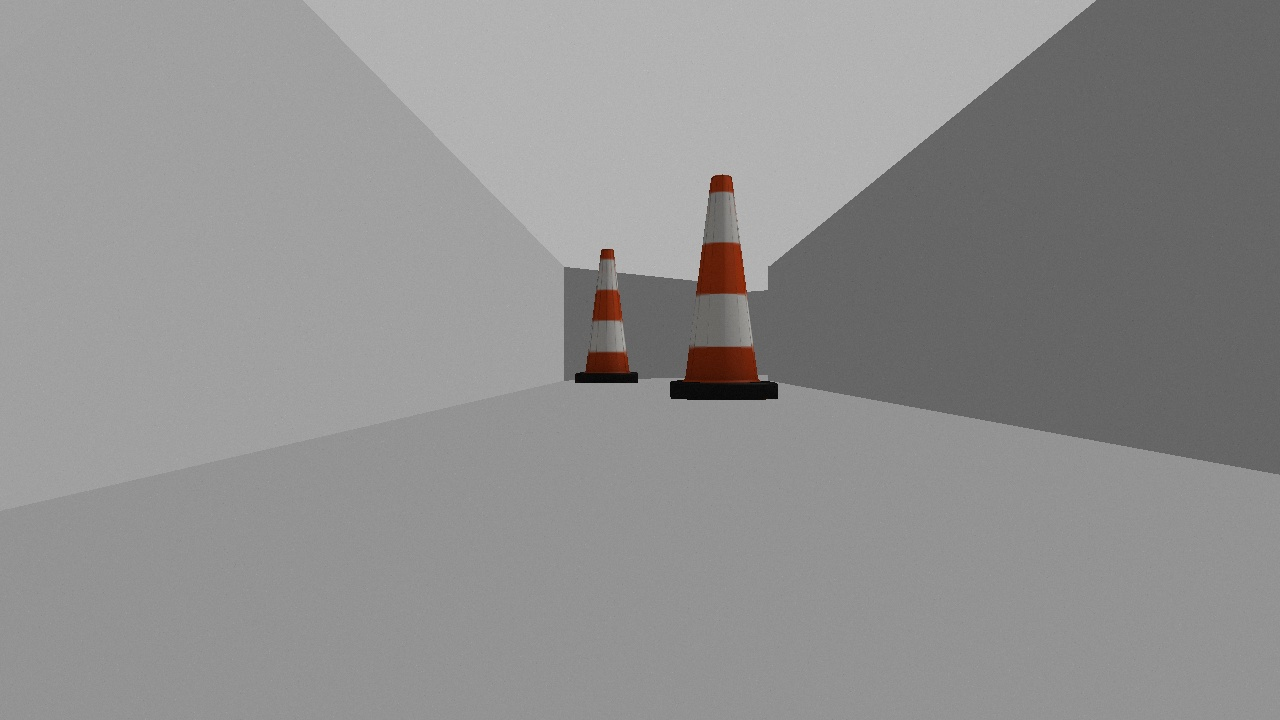barricade: (663, 171, 784, 406), (568, 244, 646, 389)
